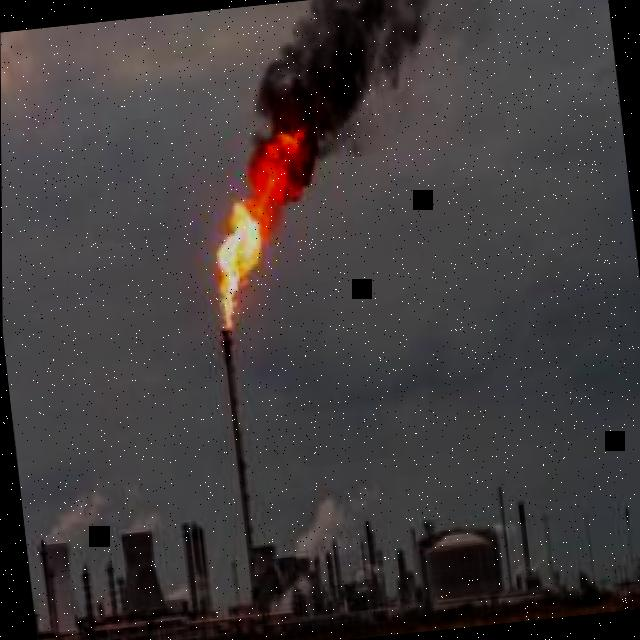fire: (216, 124, 312, 335)
smoke: (249, 0, 495, 186)
